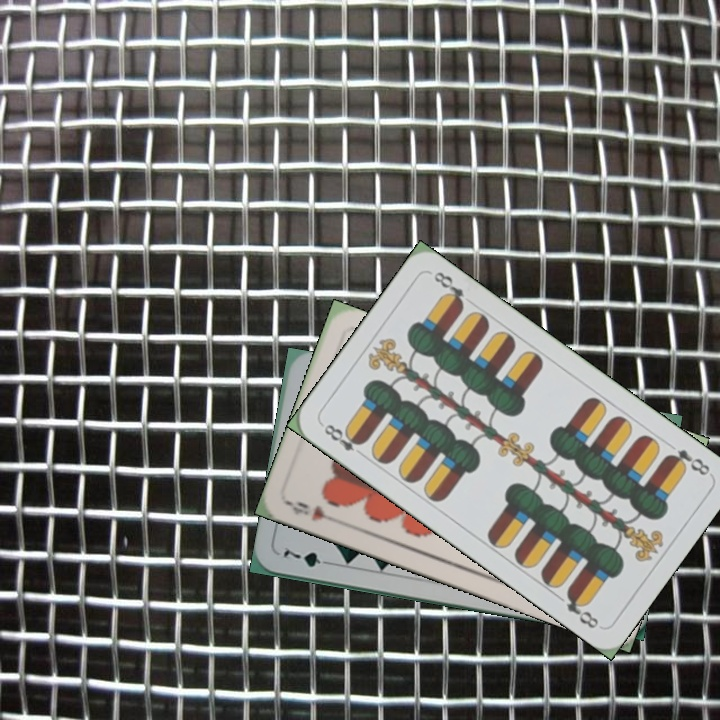E8: (320, 420, 368, 460), (661, 445, 713, 479)
G7: (279, 545, 336, 570)
H9: (284, 497, 341, 527)
